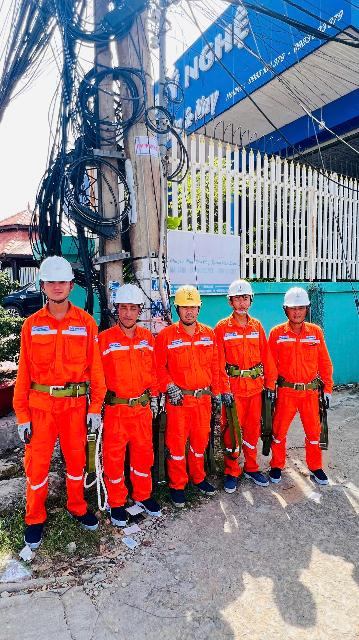gloves: (76, 408, 107, 437), (163, 380, 187, 408), (151, 392, 165, 420), (19, 419, 33, 444), (322, 386, 334, 409), (212, 389, 222, 415), (265, 388, 277, 409), (224, 389, 237, 408)
harness: (25, 373, 95, 401), (272, 366, 333, 393), (103, 381, 157, 411), (169, 281, 208, 308), (225, 357, 268, 381), (167, 382, 219, 401), (113, 281, 150, 307), (282, 281, 312, 309), (40, 259, 76, 281), (226, 273, 256, 297)
shoes: (60, 504, 100, 532), (20, 517, 49, 550), (186, 475, 220, 499), (137, 493, 164, 520), (166, 482, 191, 507), (242, 466, 267, 490), (106, 503, 127, 528), (311, 466, 333, 489), (263, 461, 284, 483), (222, 473, 239, 496)
